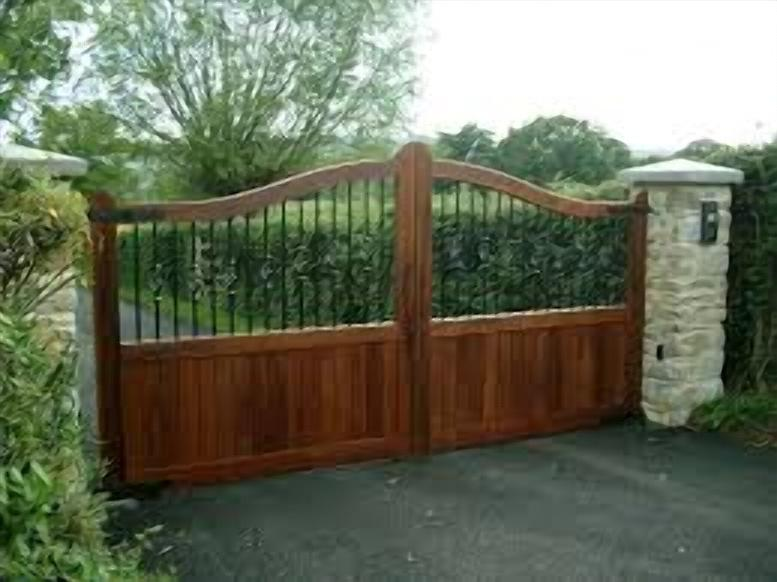Gate: (82, 140, 648, 496)
